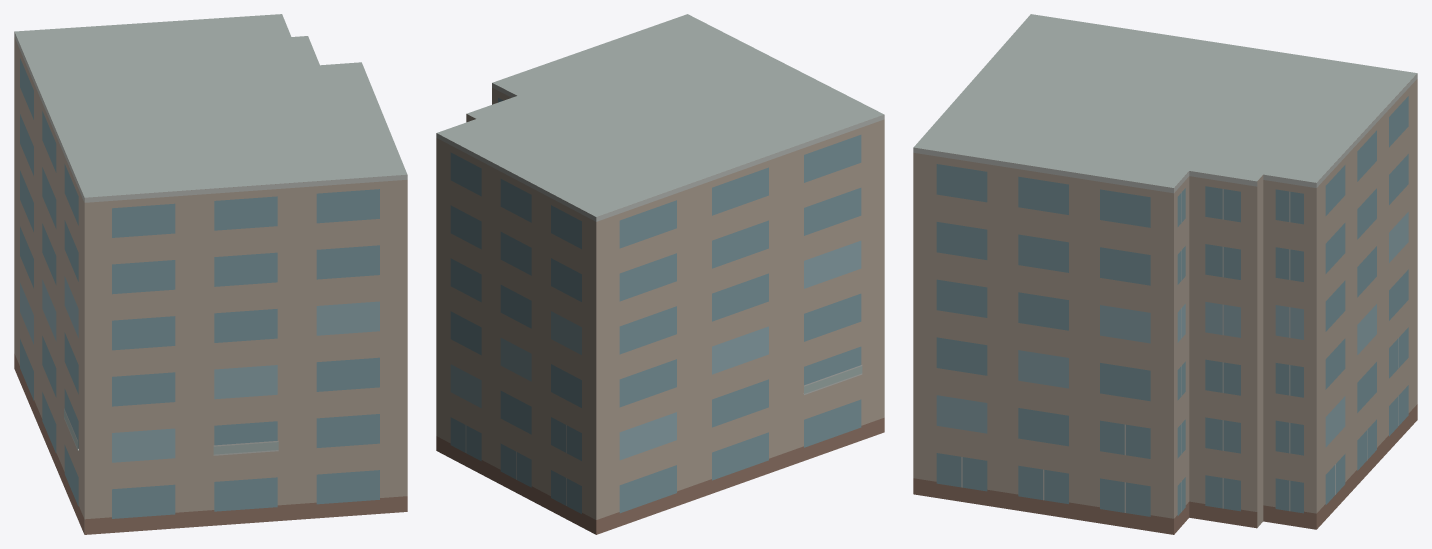
The model's file is survey-upis-32723443.glb.
3 renders of one model, left to right at view 1: azimuth 30°, elevation 25°; view 2: azimuth 150°, elevation 25°; view 3: azimuth 270°, elevation 25°, orthographic. The views are drawn at different scales.
Visible parts, largest first — view 1: survey-upis-32723443.tmp; view 2: survey-upis-32723443.tmp; view 3: survey-upis-32723443.tmp.
Boxes of the visible parts, box(x1,y1,x2,y2) form: survey-upis-32723443.tmp: box(14, 14, 407, 534); survey-upis-32723443.tmp: box(436, 14, 884, 534); survey-upis-32723443.tmp: box(913, 14, 1417, 534).
Size of the model in its own units: 17.34 by 16.1 by 21.22.
